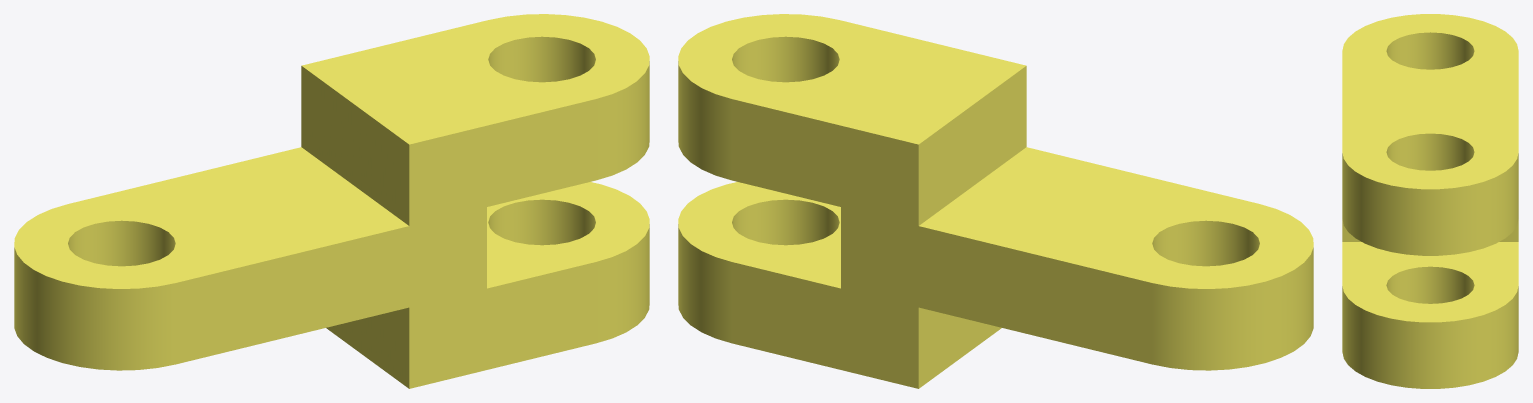
3 views of the same model, side by side, from view 1: azimuth 30°, elevation 25°; view 2: azimuth 150°, elevation 25°; view 3: azimuth 270°, elevation 25° (orthographic). The views are drawn at different scales.
Visible parts, largest first — view 1: 947; view 2: 947; view 3: 947.
Part boxes in pixels (left/top/right/bottom): 947: left=14, top=14, right=649, bottom=388; 947: left=678, top=14, right=1313, bottom=388; 947: left=1342, top=14, right=1518, bottom=388.
Bounding box in the file's own units: 0.1947 × 0.075 × 0.06.
